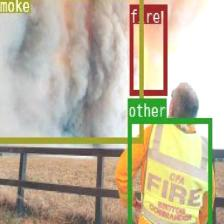fire: (129, 4, 166, 94)
smoke: (0, 0, 142, 142)
